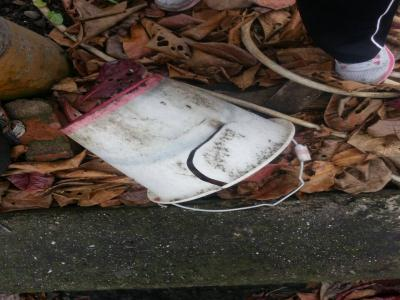bucket: (56, 70, 317, 219)
